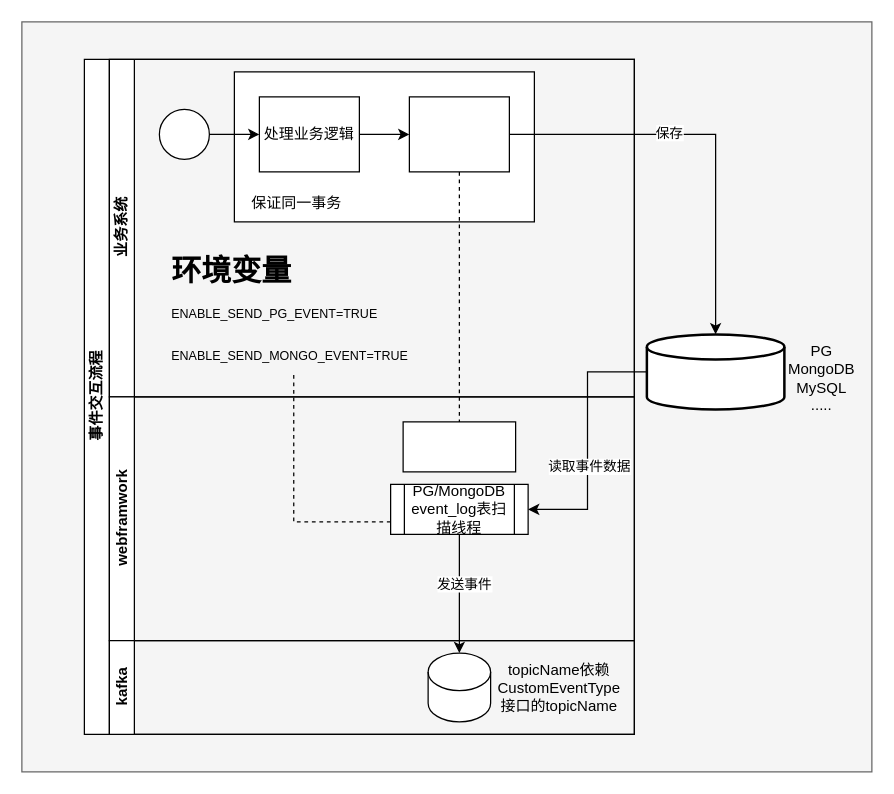
Image size: 894x794. Some labels were removed from this diagram. Here are the shapes that lost their labels. From the top down, the centre of each, then its label:
At (x=458, y=134): "调用webframwork相关方法保存事件到事件表".
At (x=715, y=371): "event_log表".
At (x=459, y=446): "事件框架".
